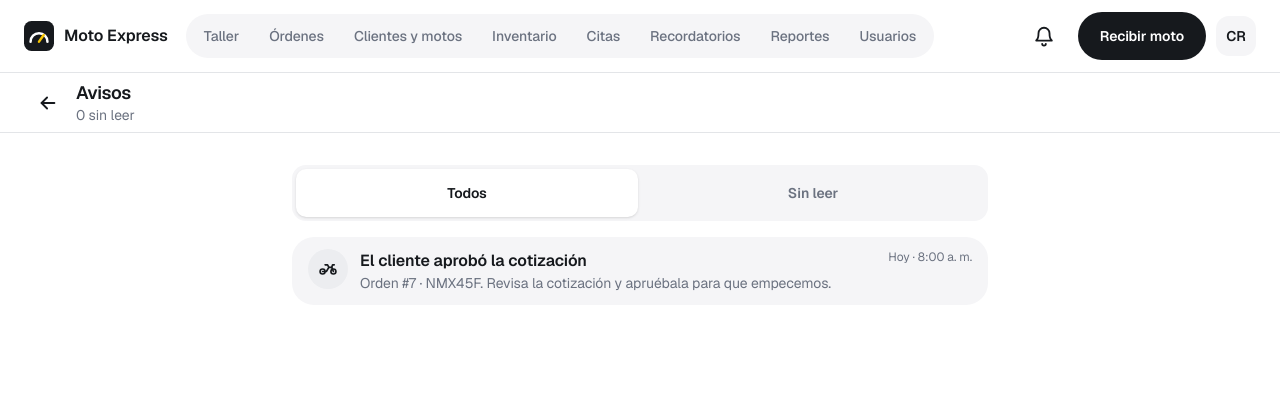
Scenario: HU-70 · Pantalla de avisos › filtra «Sin leer» y muestra el estado vacío
Expected: the text "El cliente aprobó la cotización" is shown, [360, 250, 587, 271]
Click the tab "Sin leer". click: (813, 193)
box: [642, 169, 984, 217]
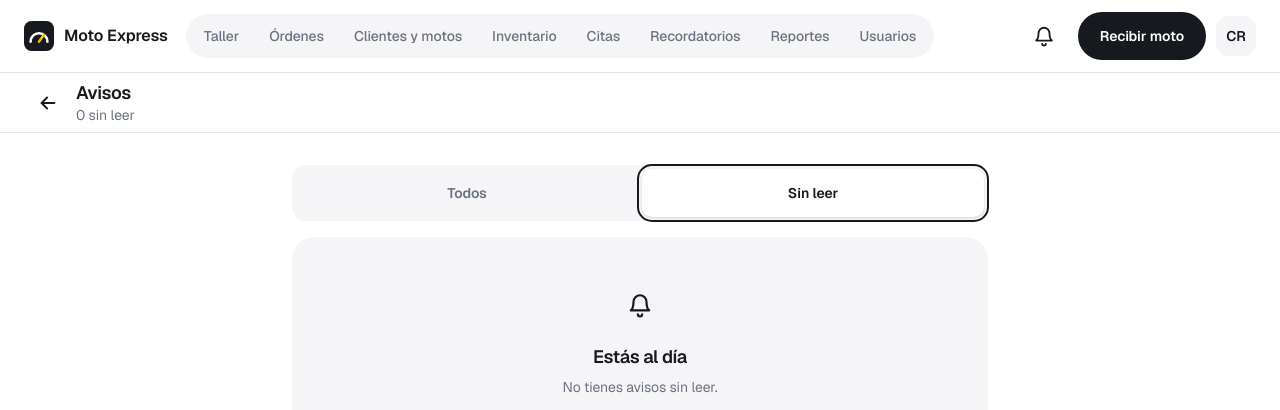
Expected: the heading "Estás al día" is shown, [593, 345, 687, 369]
